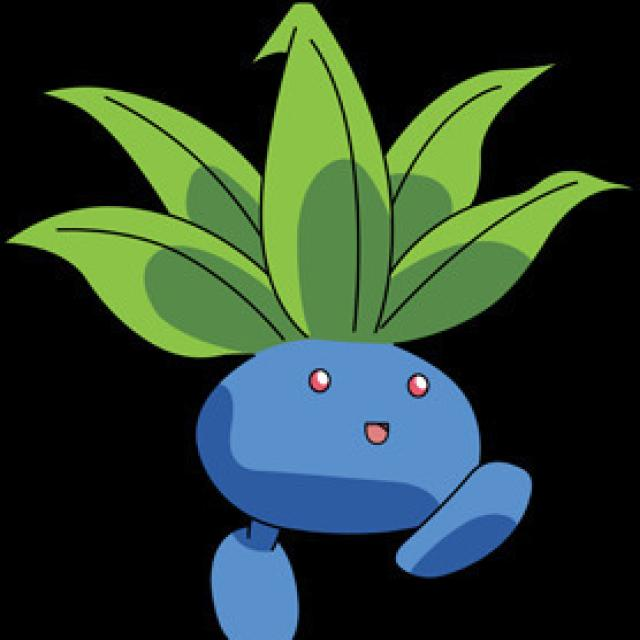Oddish: (171, 2, 519, 542)
